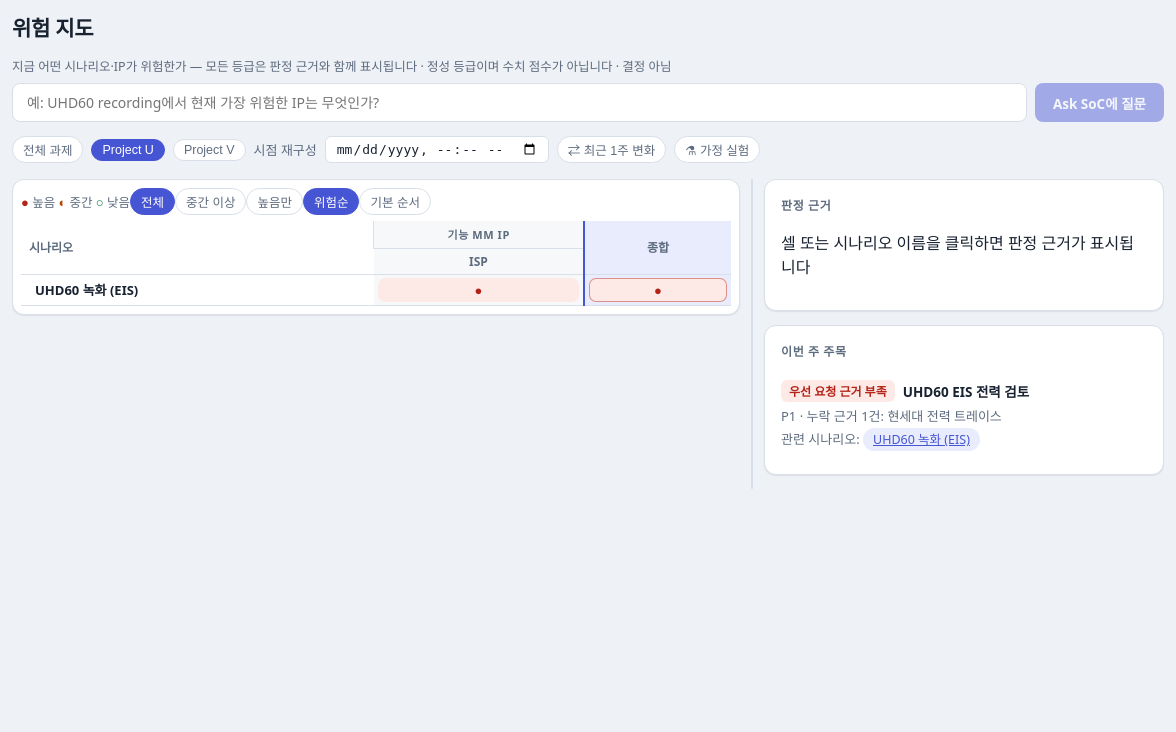
Test: RiskMapPage › 셀 클릭 시 근거 패널로 drill-down 한다
Click the 2nd button "●". click: coordinates (658, 290)
box: [589,278,727,302]
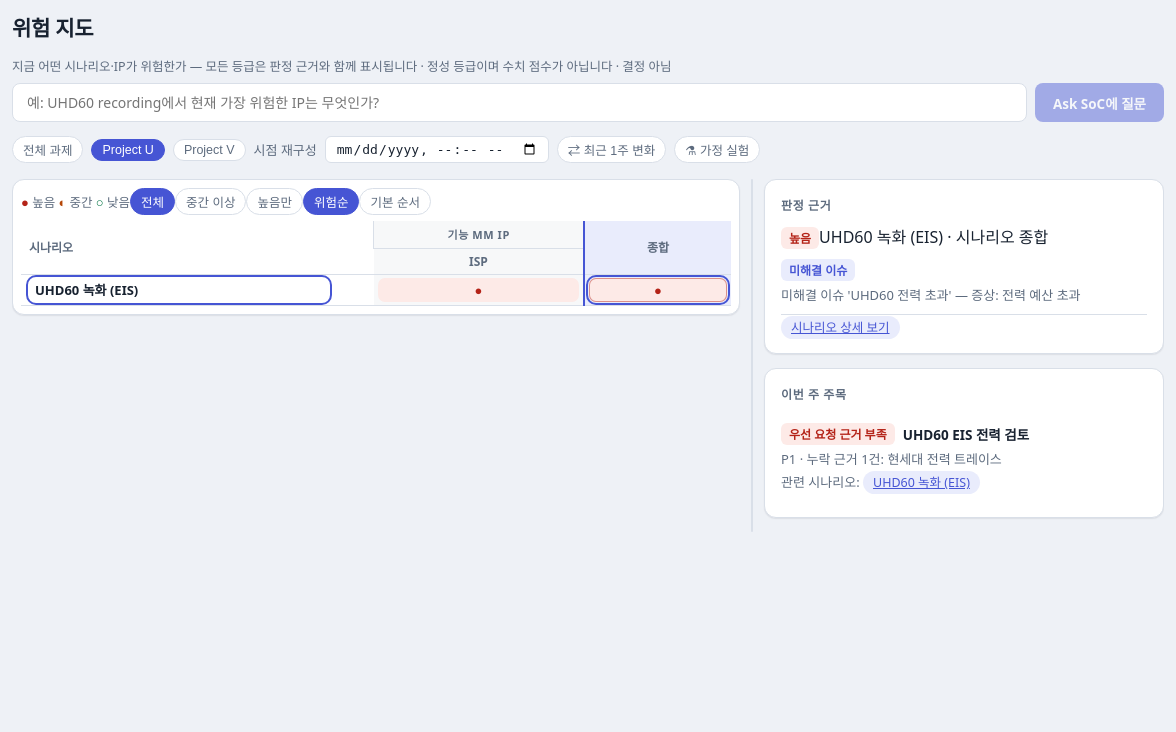
Expected: the text "미해결 이슈" is shown, [781,259,855,281]
Expected: the text "미해결 이슈 'UHD60 전력 초과' — 증상: 전력 예산 초과" is shown, [781,286,1081,304]
